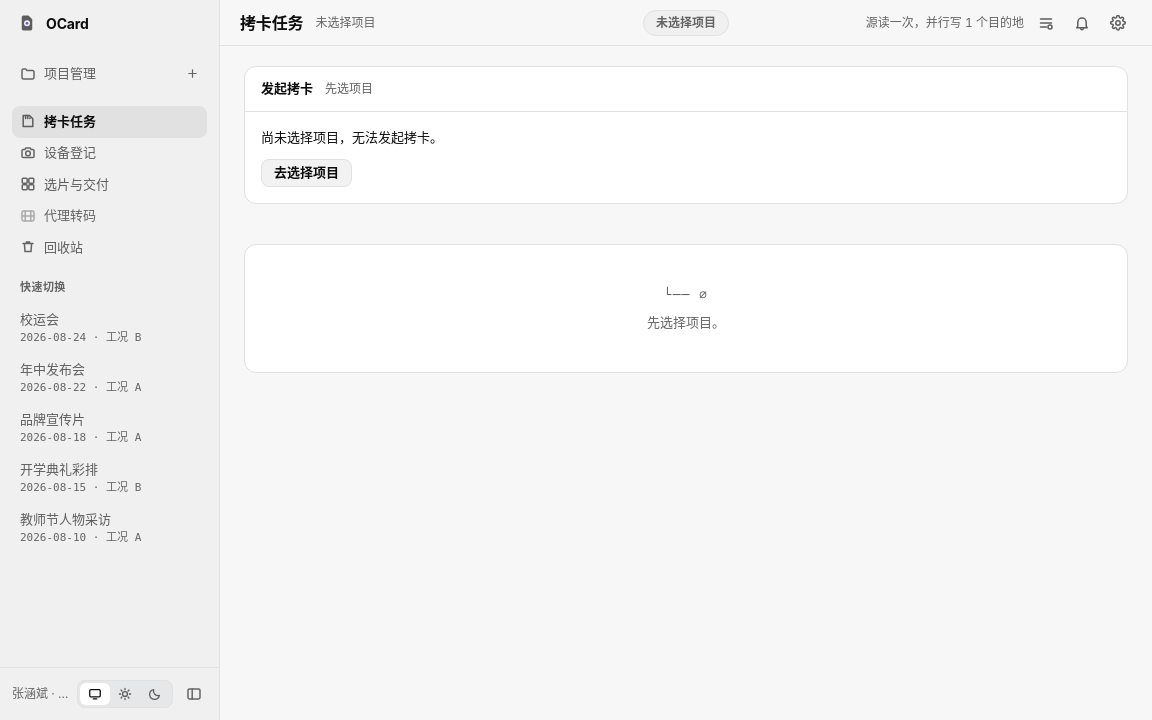
Test: 工作站设置 › 保存后写回工作站信息并关闭对话框
Step 1. Click the button with test id "settings-open" → (1118, 22), box x1=1104 y1=8 x2=1132 y2=36
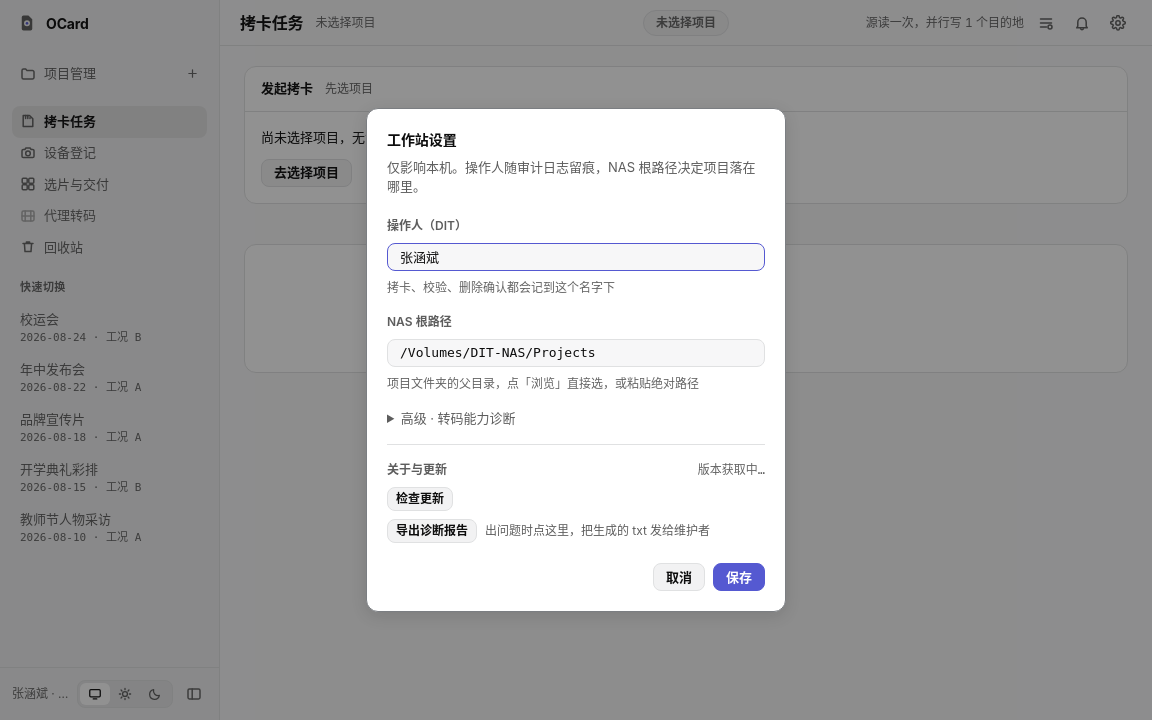
Step 2. Replace the text in the field with test id "settings-operator" with "李默" → (576, 257), box x1=387 y1=243 x2=765 y2=271
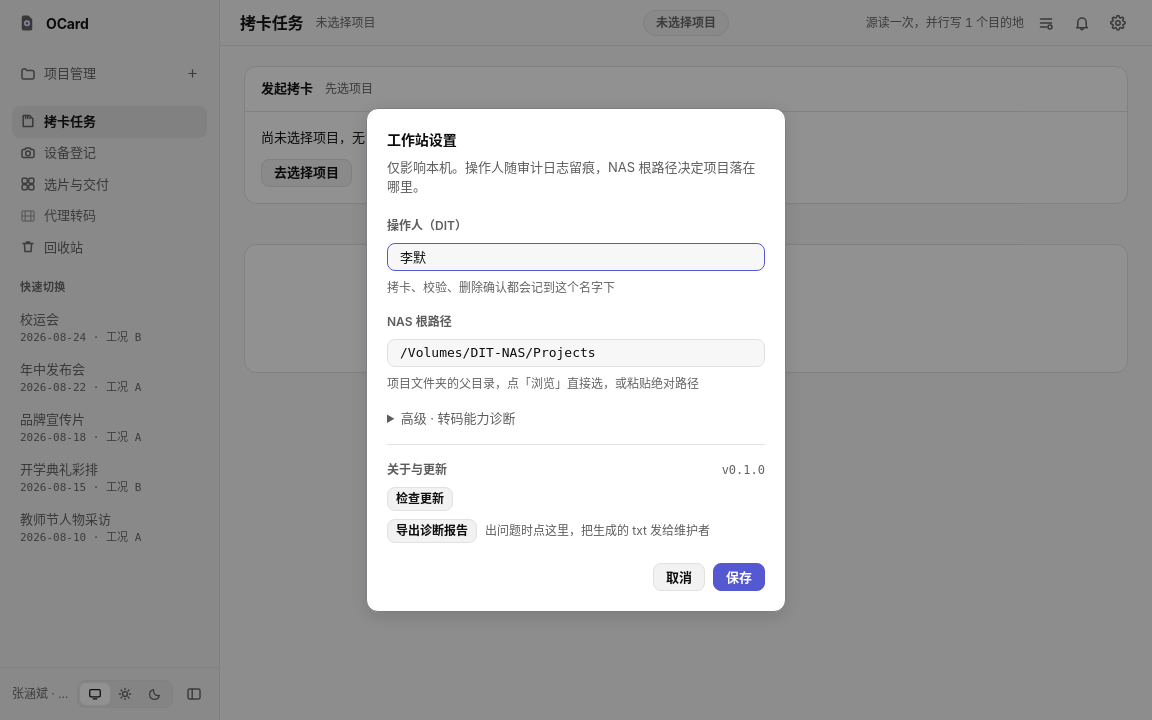
Step 3. Type "/Volumes/NAS2/Projects" into the field with test id "settings-nas-root" → (576, 353), box x1=387 y1=339 x2=765 y2=367
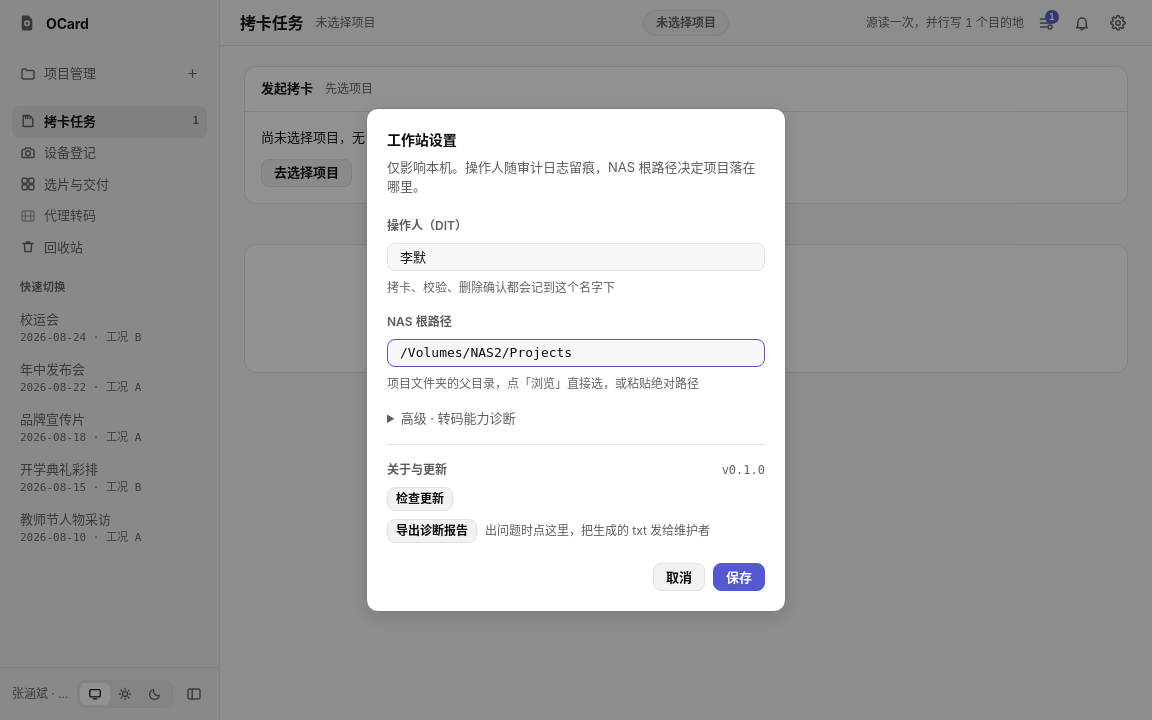
Step 4. Click the button with test id "settings-save" → (739, 577), box x1=713 y1=563 x2=765 y2=591
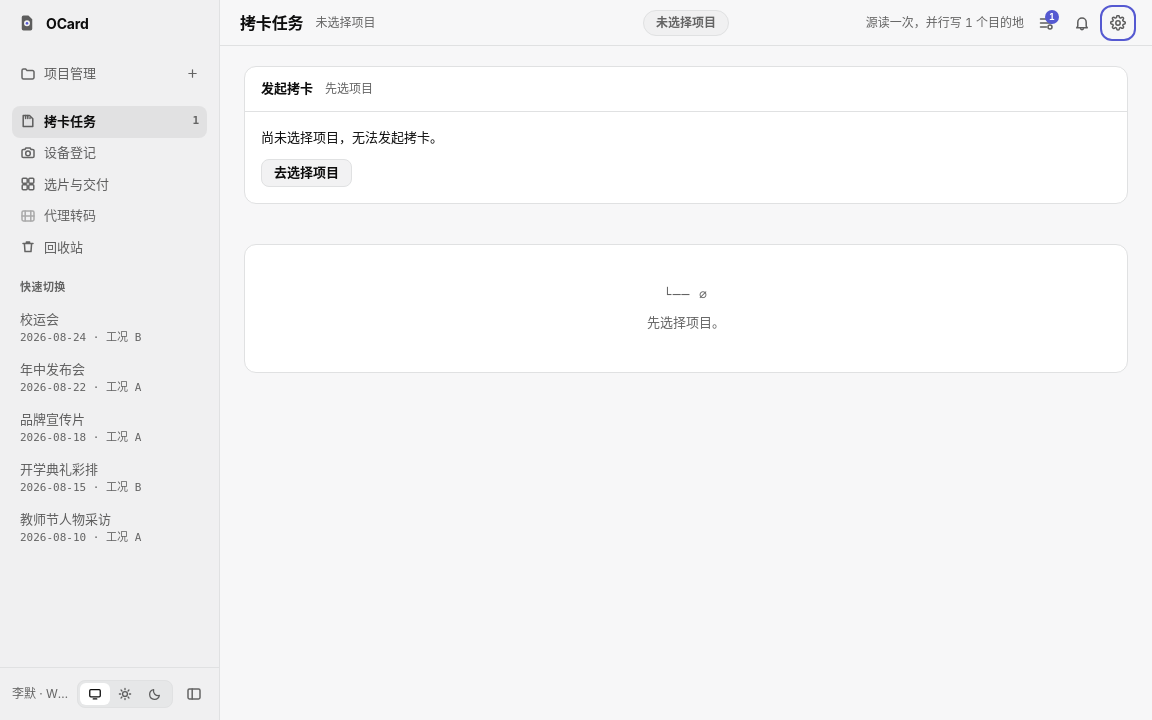
Check: the dialog is gone
Check: the button "李默 · WS-7C4A21" is shown, box x1=12 y1=685 x2=69 y2=703
